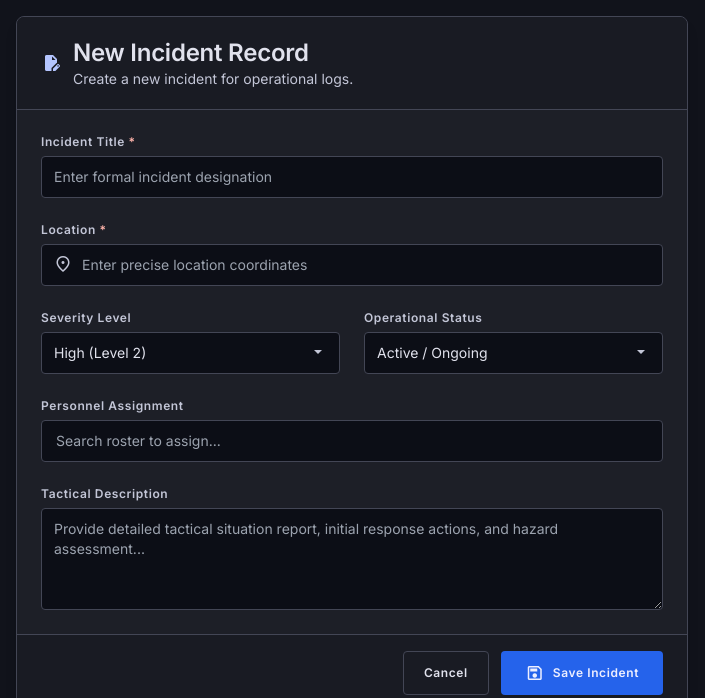
Scenario: NewIncidentReport › shows validation error when title is empty
Click the button "Save Incident".
click(582, 673)  # box [501,651,663,695]
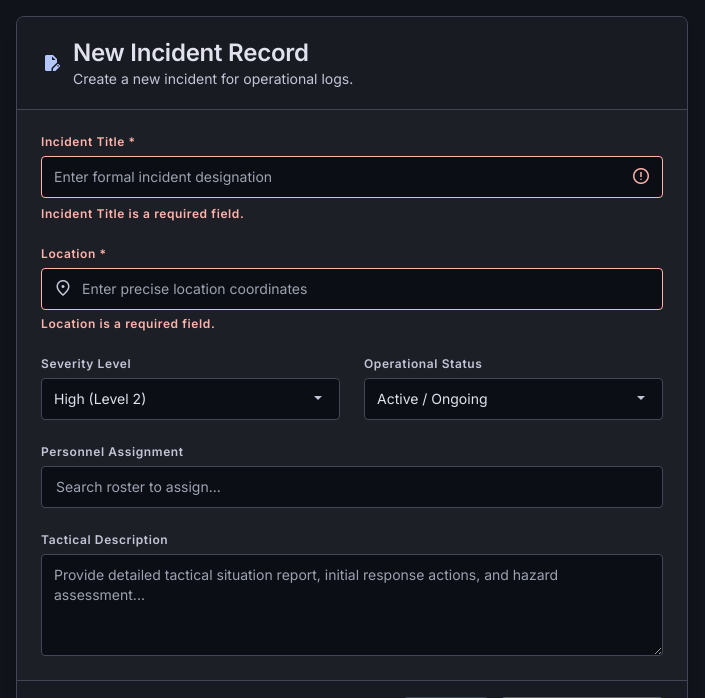
Expected: the text "Incident Title is a required field." is shown, [41,206,244,222]
